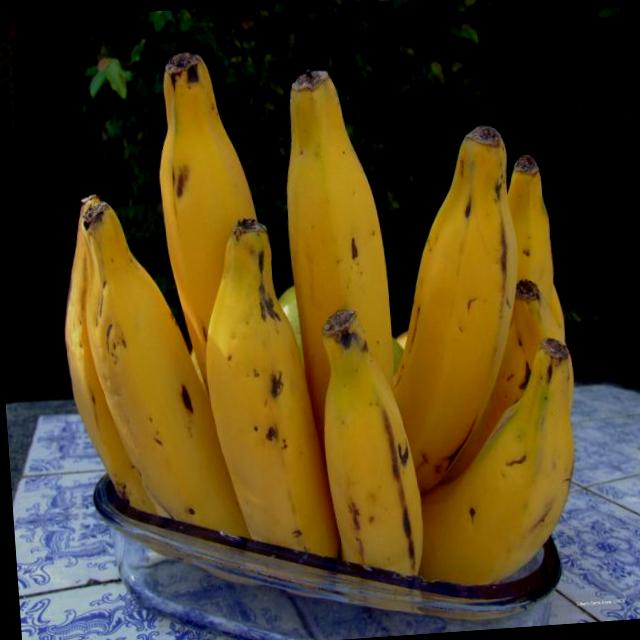Banana: (43, 22, 592, 640)
